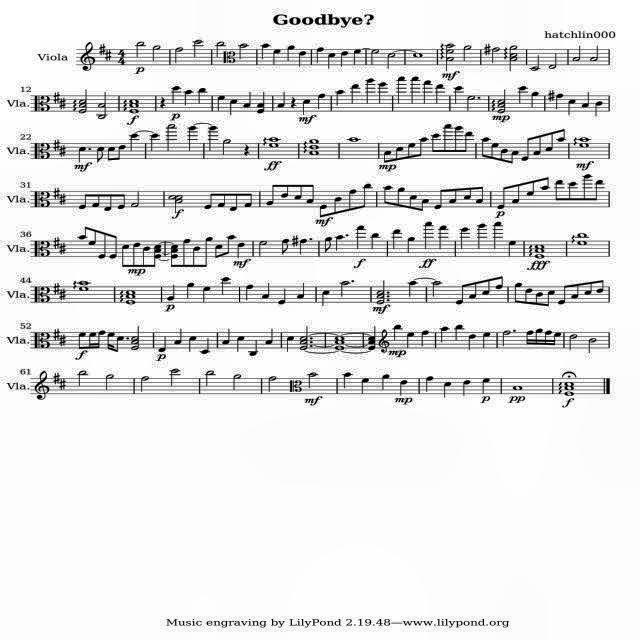Bass-clef: (32, 370, 49, 400), (80, 41, 96, 71)
Diez: (52, 188, 60, 200), (52, 237, 60, 249), (52, 328, 60, 340), (59, 334, 67, 346), (484, 44, 492, 56), (548, 90, 556, 102), (98, 44, 105, 56), (105, 50, 112, 62), (52, 91, 59, 103), (52, 140, 59, 152), (59, 146, 66, 158), (59, 194, 66, 206), (53, 282, 59, 296), (59, 288, 66, 300), (52, 372, 59, 384), (59, 98, 66, 109), (59, 243, 66, 254), (292, 235, 298, 247), (59, 378, 65, 389)
Eighth-note: (203, 236, 213, 268), (108, 234, 120, 260), (182, 239, 192, 269), (361, 184, 373, 208), (594, 178, 606, 202), (130, 244, 142, 268), (441, 124, 451, 152), (581, 173, 591, 201), (97, 231, 107, 259), (497, 186, 508, 210), (224, 235, 236, 257), (453, 126, 463, 152), (462, 131, 473, 153), (521, 138, 531, 162), (120, 244, 130, 268), (417, 137, 428, 157), (265, 183, 275, 205), (432, 190, 443, 210), (555, 179, 565, 201), (558, 284, 568, 306), (348, 188, 357, 212), (383, 186, 393, 207), (510, 183, 520, 204), (524, 180, 536, 197), (430, 132, 440, 152), (103, 192, 113, 212), (395, 187, 405, 207), (455, 284, 465, 304), (482, 136, 491, 158), (88, 229, 99, 247), (481, 278, 492, 296), (78, 194, 90, 210), (332, 197, 342, 216), (203, 192, 213, 210), (228, 193, 238, 211), (293, 183, 303, 201), (475, 186, 485, 204), (323, 236, 333, 254), (76, 332, 86, 350), (523, 288, 533, 306), (115, 144, 126, 160), (532, 135, 540, 157), (407, 194, 418, 210), (142, 246, 150, 268), (193, 247, 201, 269), (514, 282, 522, 304), (489, 142, 498, 160), (546, 132, 554, 152), (217, 192, 227, 208), (243, 192, 253, 208), (306, 184, 314, 204), (449, 188, 459, 204), (568, 182, 576, 202), (114, 336, 124, 352), (78, 226, 88, 242), (545, 290, 555, 306), (418, 199, 429, 213), (470, 281, 478, 299), (570, 282, 578, 300), (499, 149, 509, 163), (557, 129, 567, 143), (91, 193, 101, 207), (279, 184, 289, 198), (540, 177, 550, 191), (151, 254, 161, 268), (96, 146, 104, 162), (107, 146, 115, 162), (396, 146, 404, 162), (407, 143, 415, 159), (118, 193, 126, 209), (214, 244, 222, 260), (282, 238, 290, 254), (496, 274, 504, 290), (536, 292, 544, 308), (584, 280, 592, 296), (596, 278, 604, 294), (509, 151, 518, 165), (318, 204, 327, 218), (463, 187, 472, 201), (384, 150, 392, 162), (170, 254, 178, 266)
Full-note: (412, 52, 424, 58), (128, 108, 140, 114), (268, 142, 280, 148), (268, 136, 280, 142), (308, 144, 320, 150), (308, 150, 320, 156), (535, 253, 545, 259), (79, 280, 89, 286), (534, 248, 546, 252), (576, 241, 588, 245), (78, 286, 90, 290), (512, 386, 524, 390), (564, 392, 576, 396), (125, 294, 136, 298), (129, 104, 139, 108), (129, 99, 139, 103), (309, 140, 319, 144), (349, 138, 359, 142), (579, 144, 589, 148), (579, 138, 589, 142), (535, 244, 545, 248), (577, 232, 587, 236), (126, 290, 136, 294), (335, 346, 345, 350), (334, 340, 344, 344), (335, 336, 345, 340), (564, 386, 574, 390), (564, 382, 574, 386), (126, 300, 134, 304)
Half-note: (167, 124, 177, 152), (256, 240, 268, 258), (76, 370, 88, 388), (266, 376, 278, 392), (173, 46, 183, 64), (193, 39, 203, 57), (170, 368, 180, 386), (463, 44, 473, 61), (572, 44, 582, 61), (589, 44, 599, 61), (205, 369, 215, 386), (233, 374, 243, 391), (501, 329, 511, 346), (370, 50, 380, 66), (386, 53, 396, 69), (491, 48, 501, 64), (531, 54, 541, 70), (548, 54, 558, 70), (97, 92, 107, 108), (78, 88, 88, 104), (222, 140, 232, 156), (129, 192, 139, 208), (139, 376, 149, 392), (307, 372, 317, 388), (587, 338, 597, 354), (432, 280, 441, 296), (375, 280, 385, 294), (131, 326, 141, 340), (240, 42, 248, 59), (106, 374, 114, 391), (136, 42, 144, 58), (152, 46, 160, 62), (216, 42, 224, 58), (446, 56, 454, 72), (466, 96, 474, 112), (498, 88, 506, 104), (340, 281, 348, 297), (570, 334, 578, 350), (510, 57, 518, 71), (300, 326, 308, 340), (174, 199, 182, 213)
Quarter-note: (493, 222, 503, 250), (207, 125, 217, 151), (477, 223, 487, 249), (438, 225, 448, 249), (398, 76, 406, 104), (410, 76, 418, 104), (424, 221, 432, 249), (423, 80, 432, 104), (366, 78, 374, 104), (188, 125, 196, 151), (350, 84, 360, 104), (378, 82, 387, 104), (459, 227, 468, 249), (356, 225, 364, 249), (171, 86, 181, 104), (298, 238, 308, 256), (264, 328, 274, 346), (419, 329, 429, 347), (248, 339, 258, 356), (436, 84, 444, 105), (260, 44, 270, 60), (272, 50, 282, 66), (286, 46, 296, 62), (276, 92, 286, 108), (256, 92, 266, 108), (130, 132, 138, 152), (150, 132, 158, 152), (593, 101, 603, 117), (392, 228, 400, 248), (277, 288, 287, 304), (296, 282, 306, 298), (407, 280, 417, 296), (173, 328, 183, 344), (200, 338, 210, 354), (285, 336, 295, 352), (359, 378, 369, 394), (442, 382, 452, 398), (454, 326, 464, 342), (167, 284, 177, 300), (202, 286, 212, 302), (382, 374, 391, 391), (399, 379, 408, 396), (318, 94, 327, 110), (454, 86, 462, 104), (77, 147, 86, 163), (518, 85, 526, 103), (508, 240, 516, 258), (407, 236, 415, 254), (336, 234, 344, 252), (322, 290, 331, 306), (482, 378, 491, 394), (393, 324, 402, 340), (186, 282, 194, 300), (222, 277, 230, 295), (340, 51, 348, 68), (462, 379, 470, 396), (467, 334, 475, 351), (298, 51, 306, 67), (316, 47, 324, 63), (328, 53, 336, 69), (353, 50, 361, 66), (184, 90, 192, 106), (198, 88, 206, 104), (217, 96, 225, 112), (230, 99, 238, 115), (243, 92, 251, 108), (302, 99, 310, 115), (336, 90, 344, 106), (531, 92, 539, 108), (556, 94, 564, 110), (568, 100, 576, 116), (582, 92, 590, 108), (370, 233, 378, 249), (246, 284, 254, 300), (262, 282, 270, 298), (158, 336, 166, 352), (188, 336, 196, 352), (222, 328, 230, 344), (236, 336, 244, 352), (342, 372, 350, 388), (426, 376, 434, 392), (406, 332, 414, 348), (440, 326, 448, 342), (483, 332, 491, 348), (368, 326, 376, 340)
Quarter-rest: (290, 96, 298, 108), (244, 144, 252, 156)
Sixteenth-note: (95, 330, 105, 350), (534, 328, 542, 346), (86, 332, 95, 348), (107, 333, 115, 351), (526, 330, 534, 346), (544, 330, 552, 346), (554, 332, 562, 348)
